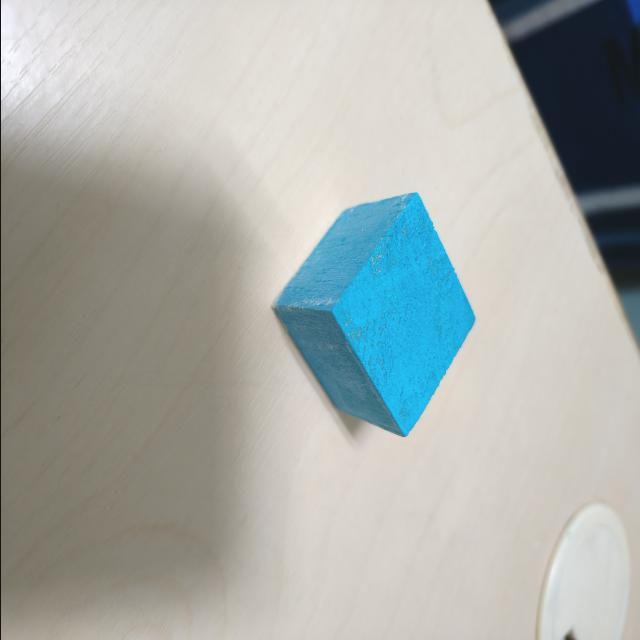blue_block: (269, 182, 475, 442)
